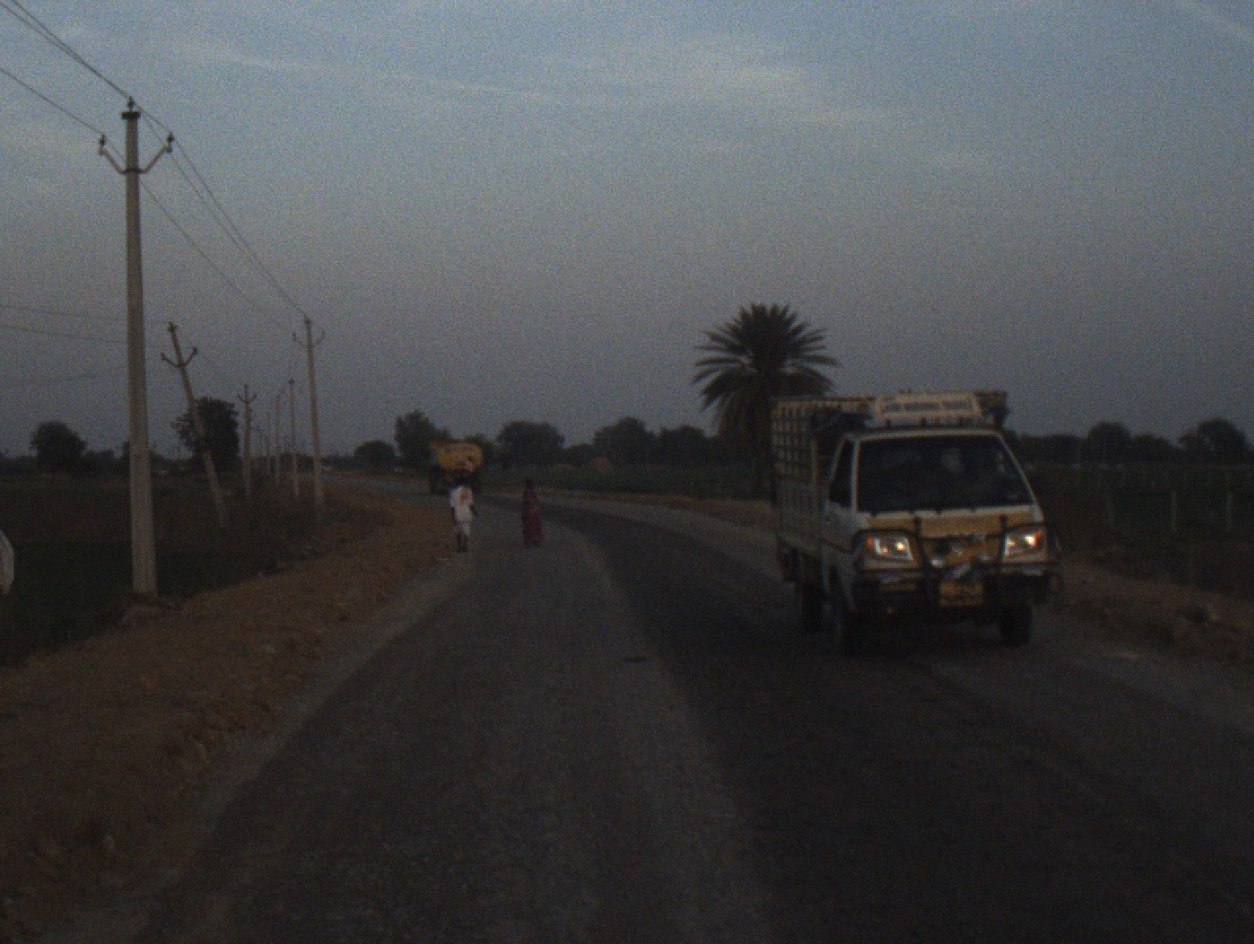person: (449, 470, 479, 554), (518, 468, 548, 549)
rider: (463, 452, 479, 483)
truck: (758, 386, 1068, 651), (420, 433, 487, 494)
